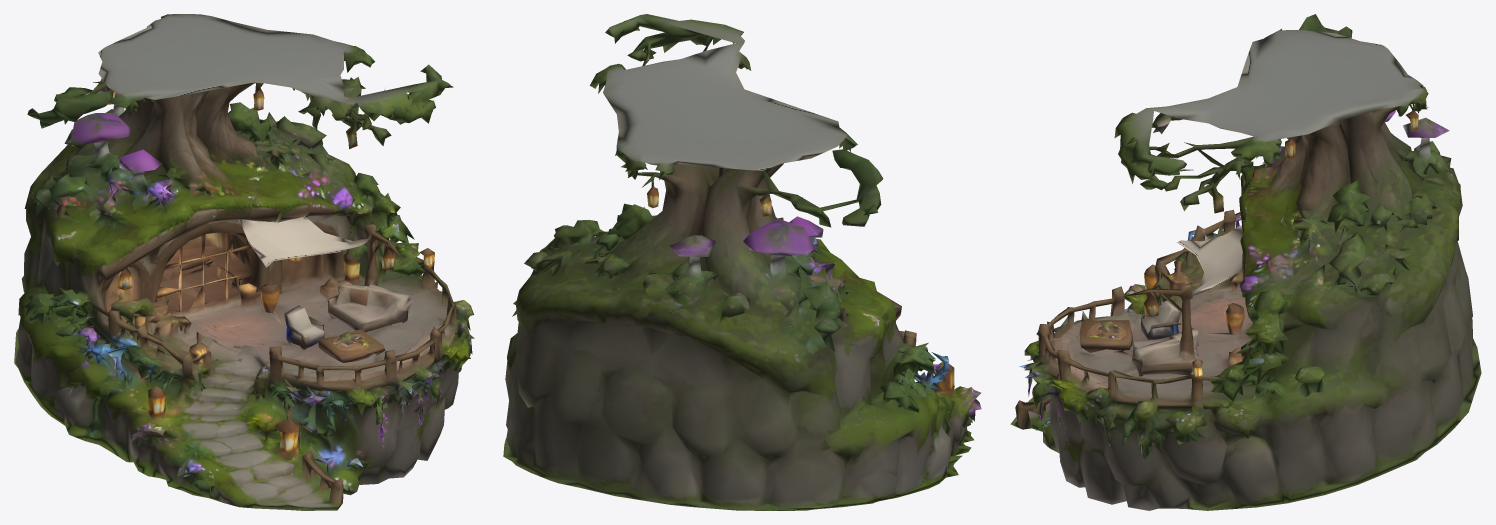
Rendered from terrace.glb.
3 renders of one model, left to right at view 1: azimuth 30°, elevation 25°; view 2: azimuth 150°, elevation 25°; view 3: azimuth 270°, elevation 25°, orthographic. The views are drawn at different scales.
Visible parts, largest first — view 1: tripo_node_d6b0ec01-5470-419a-a081-9c05678c81e1; view 2: tripo_node_d6b0ec01-5470-419a-a081-9c05678c81e1; view 3: tripo_node_d6b0ec01-5470-419a-a081-9c05678c81e1.
Part boxes in pixels (x1=…): tripo_node_d6b0ec01-5470-419a-a081-9c05678c81e1: x1=14, y1=14, x2=474, y2=510; tripo_node_d6b0ec01-5470-419a-a081-9c05678c81e1: x1=503, y1=14, x2=981, y2=510; tripo_node_d6b0ec01-5470-419a-a081-9c05678c81e1: x1=1010, y1=14, x2=1481, y2=510.
Bounding box in the file's own units: 22.13 × 20 × 23.59.
1 material, 1 textured.
